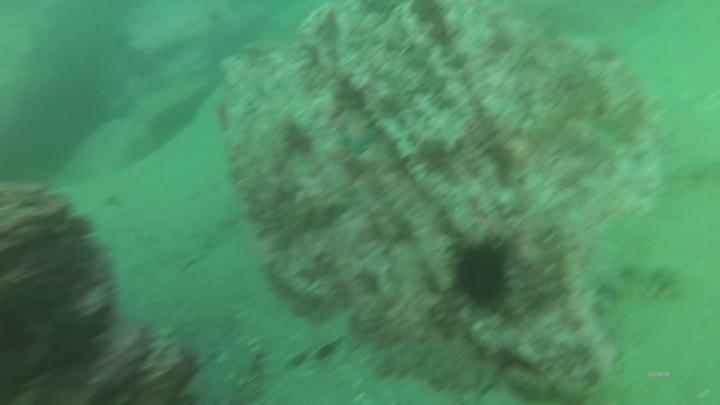echinus: (453, 240, 516, 311)
starfish: (338, 114, 388, 158)
